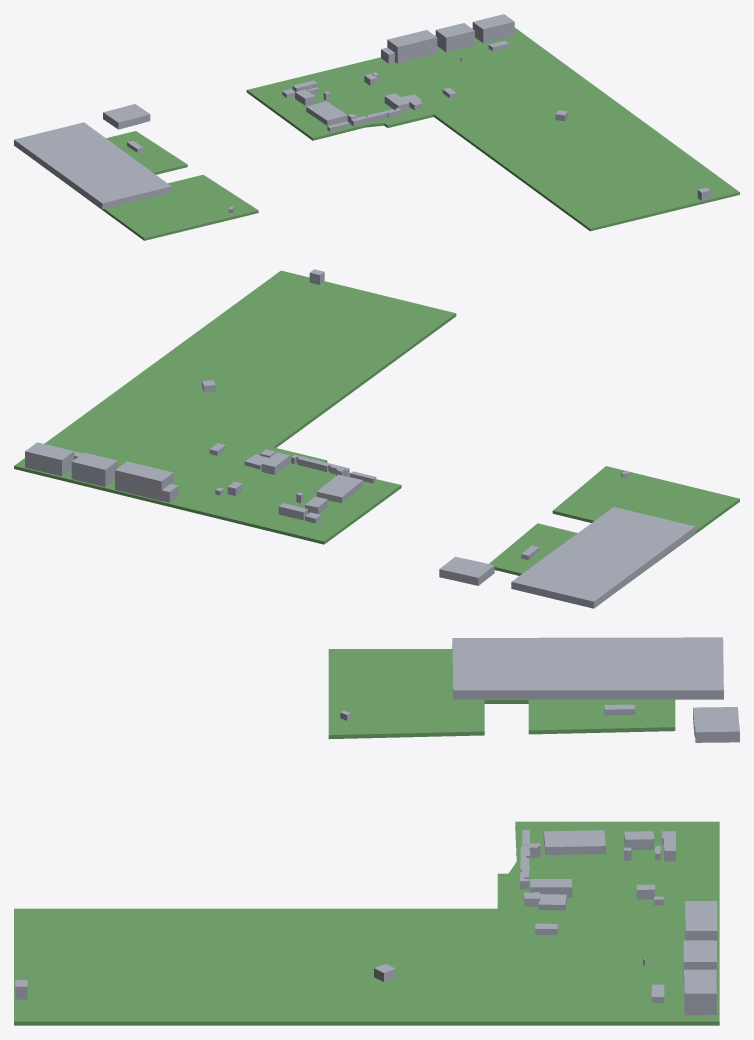
Rendered from SM_Blockout_Fondale_v4.fbx.
The picture shows the model from 3 angles, top to bottom: view 1: azimuth 30°, elevation 25°; view 2: azimuth 150°, elevation 25°; view 3: azimuth 270°, elevation 25°; orthographic projection. The views are drawn at different scales.
Parts seen in each view (by area): view 1: SM_Blockout_Fondale_v4_Terreno, SM_Blockout_Fondale_v4_Edifici; view 2: SM_Blockout_Fondale_v4_Terreno, SM_Blockout_Fondale_v4_Edifici; view 3: SM_Blockout_Fondale_v4_Terreno, SM_Blockout_Fondale_v4_Edifici.
Part boxes in pixels (bbox=[...]): SM_Blockout_Fondale_v4_Terreno: bbox=[46, 27, 739, 240]; SM_Blockout_Fondale_v4_Edifici: bbox=[14, 14, 710, 212]; SM_Blockout_Fondale_v4_Terreno: bbox=[14, 270, 739, 586]; SM_Blockout_Fondale_v4_Edifici: bbox=[25, 269, 695, 608]; SM_Blockout_Fondale_v4_Terreno: bbox=[14, 649, 719, 1025]; SM_Blockout_Fondale_v4_Edifici: bbox=[15, 637, 739, 1015].
Size of what is drawn, in the model's own units: 60341 by 49388 by 2249.
